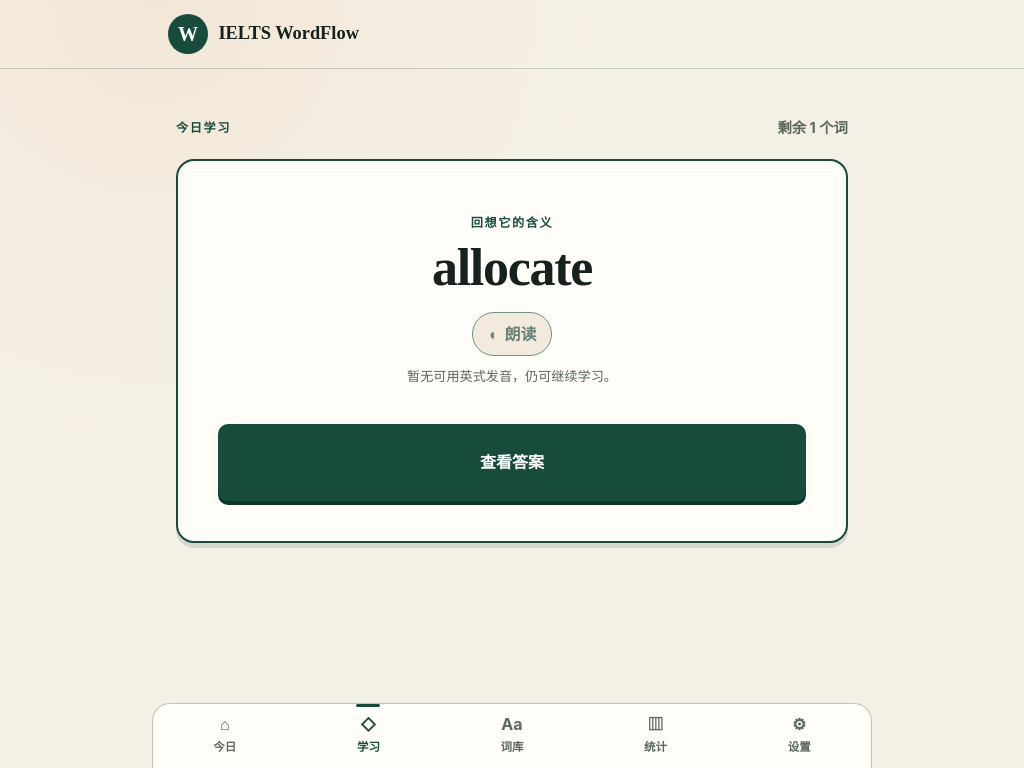
Test case: StudyPage › refreshes Today counts after a successful rating without a page reload
Check: the heading "allocate" is shown, box [432,238,592,298]
Step 1. Click the button "查看答案" → (512, 462), box [218,424,806,501]
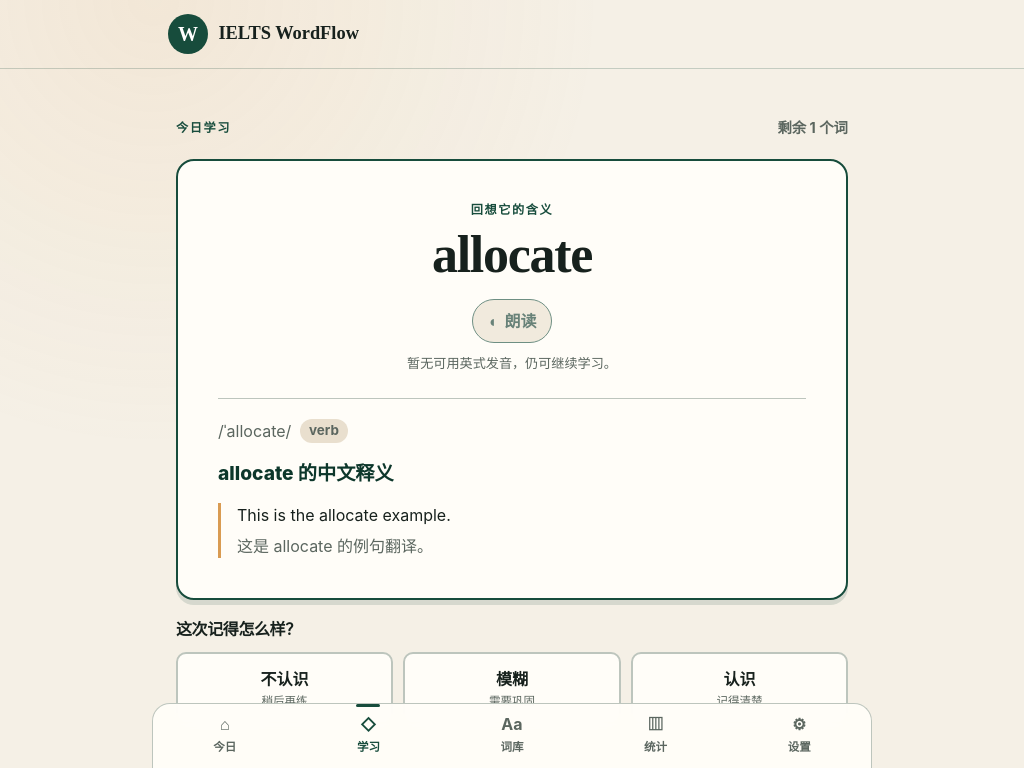
Step 2. Click the button "认识 记得清楚" → (739, 688), box [631,652,848,724]
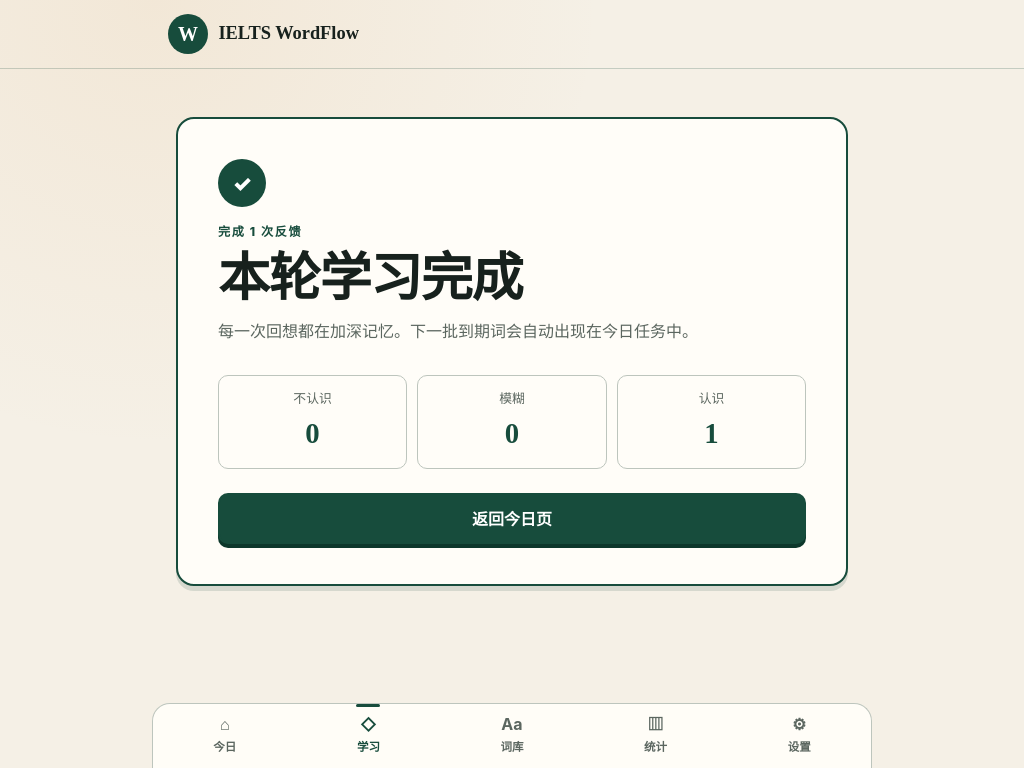
Step 3. Click the link "返回今日页" → (512, 519), box [218,493,806,544]
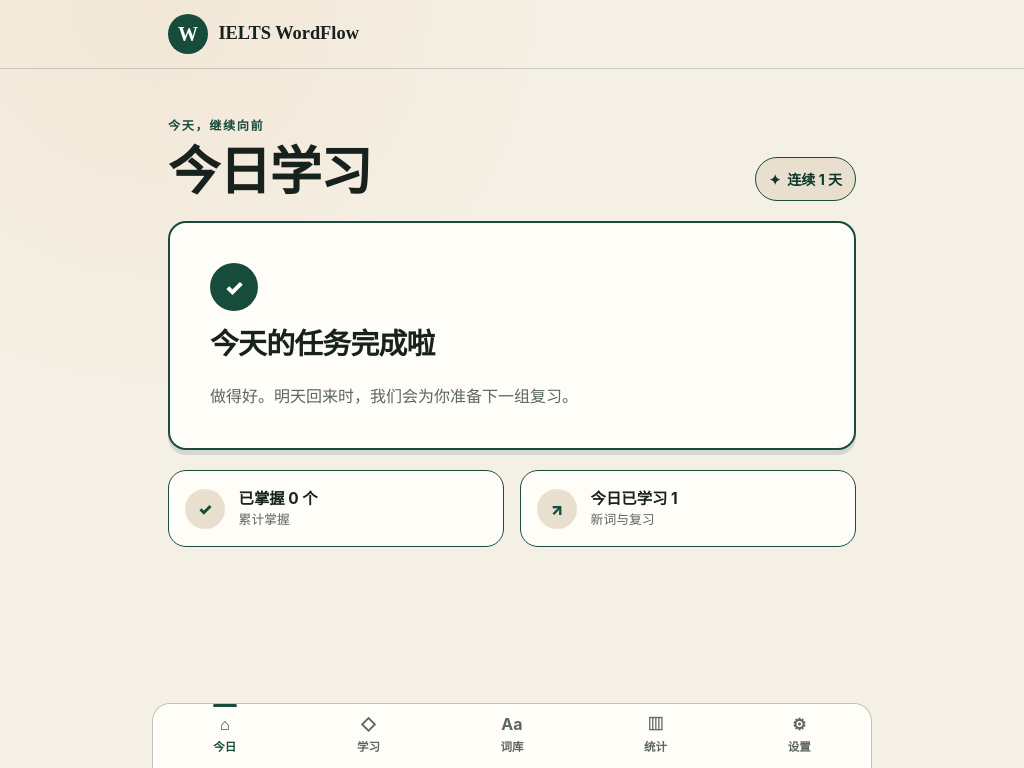
Check: the heading "今日学习" is shown, box [168,142,371,201]
Check: the text "今日已学习 1" is shown, box [591,487,678,510]
Check: the heading "今天的任务完成啦" is shown, box [210,327,435,360]
